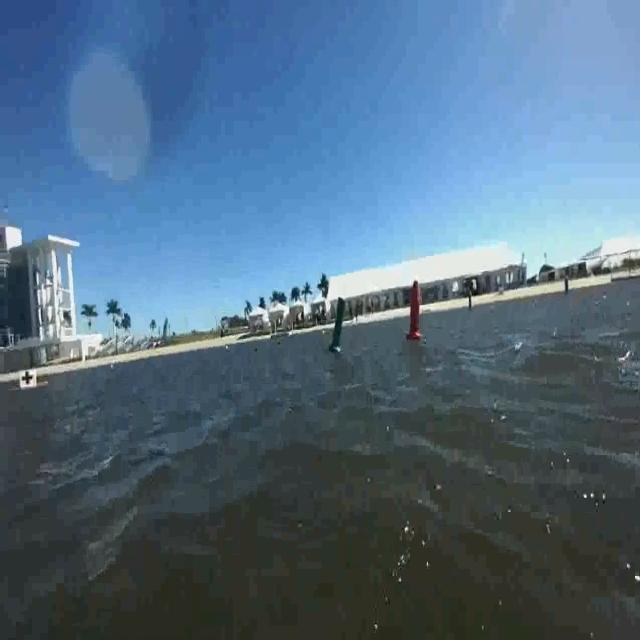green-column-buoy: (329, 294, 349, 354)
red-column-buoy: (406, 280, 425, 342)
